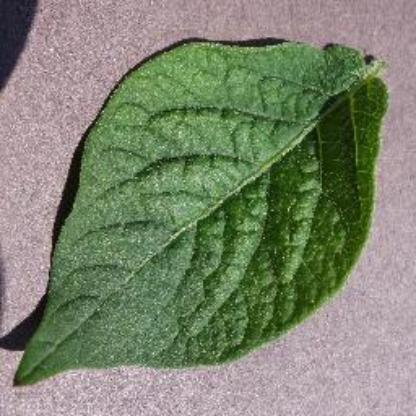Healthy-plant: (19, 35, 407, 399)
